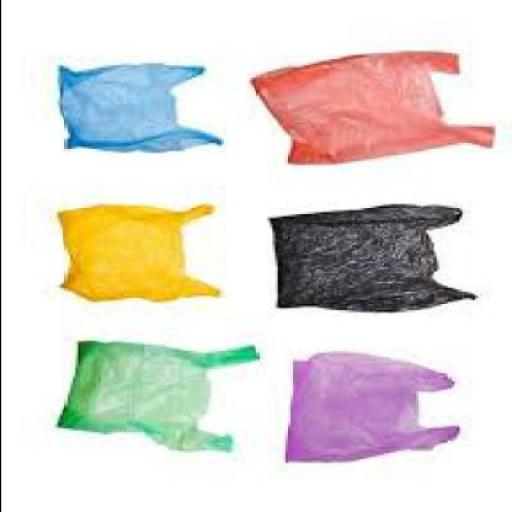plastic: (251, 53, 494, 167), (269, 206, 478, 315), (59, 343, 261, 455), (286, 354, 461, 466), (59, 206, 220, 304), (56, 67, 226, 156)
